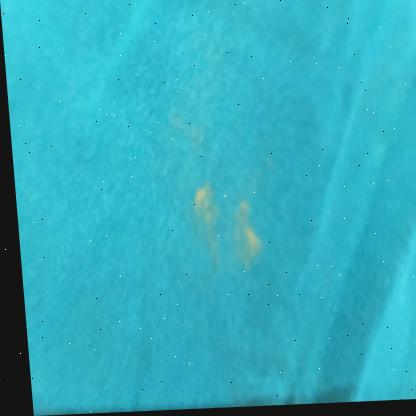spot: (188, 174, 260, 270)
